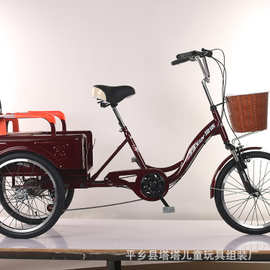empty: (1, 47, 270, 241)
